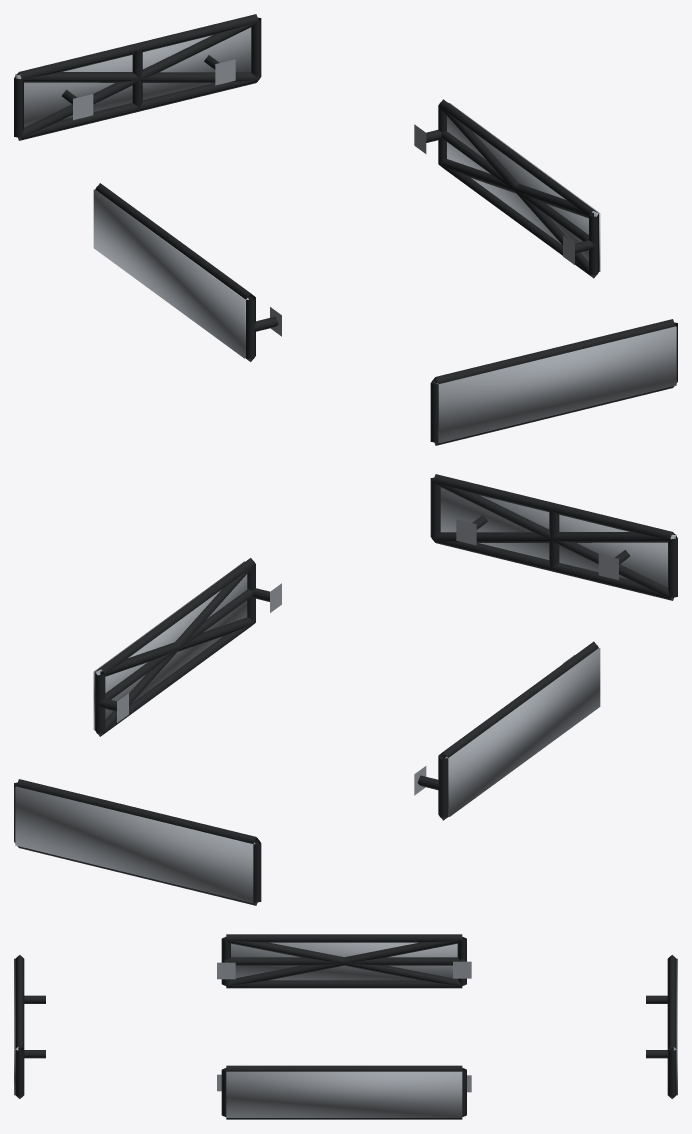
File: dunmere_lentilha_protecao.glb
3 views of the same model, one above another, from view 1: azimuth 30°, elevation 25°; view 2: azimuth 150°, elevation 25°; view 3: azimuth 270°, elevation 25° (orthographic). The views are drawn at different scales.
Parts seen in each view (by area): view 1: Protection_front_Level3_Details, Protection_left_Level3_Details, Protection_rear_Level1_Details, Protection_rear_Level3_Details, Protection_right_Level1_Details, Protection_rear_Level2_Details, Protection_right_Level2_Details, Protection_right_Level3_Details, Protection_front_Level1_Details, Protection_left_Level1_Details; view 2: Protection_rear_Level3_Details, Protection_left_Level3_Details, Protection_front_Level1_Details, Protection_front_Level3_Details, Protection_right_Level1_Details, Protection_front_Level2_Details, Protection_right_Level2_Details, Protection_right_Level3_Details, Protection_rear_Level1_Details, Protection_left_Level1_Details; view 3: Protection_right_Level3_Details, Protection_left_Level1_Details, Protection_left_Level2_Details, Protection_left_Level3_Details, Protection_right_Level1_Details, Protection_rear_Level1_Details, Protection_front_Level1_Details.
Part boxes in pixels (bbox=[...]): Protection_front_Level3_Details: bbox=[436, 326, 676, 443]; Protection_left_Level3_Details: bbox=[93, 189, 248, 358]; Protection_rear_Level1_Details: bbox=[14, 14, 261, 140]; Protection_rear_Level3_Details: bbox=[15, 27, 251, 127]; Protection_right_Level1_Details: bbox=[414, 99, 598, 278]; Protection_rear_Level2_Details: bbox=[16, 21, 258, 139]; Protection_right_Level2_Details: bbox=[438, 106, 598, 277]; Protection_right_Level3_Details: bbox=[447, 103, 600, 271]; Protection_front_Level1_Details: bbox=[430, 319, 677, 445]; Protection_left_Level1_Details: bbox=[95, 183, 281, 361]; Protection_rear_Level3_Details: bbox=[15, 786, 255, 903]; Protection_left_Level3_Details: bbox=[445, 648, 600, 816]; Protection_front_Level1_Details: bbox=[430, 474, 677, 600]; Protection_front_Level3_Details: bbox=[440, 487, 676, 587]; Protection_right_Level1_Details: bbox=[95, 558, 281, 736]; Protection_front_Level2_Details: bbox=[433, 481, 675, 599]; Protection_right_Level2_Details: bbox=[95, 564, 255, 736]; Protection_right_Level3_Details: bbox=[93, 561, 247, 730]; Protection_rear_Level1_Details: bbox=[14, 779, 261, 905]; Protection_left_Level1_Details: bbox=[414, 641, 598, 820]; Protection_right_Level3_Details: bbox=[226, 1071, 462, 1117]; Protection_left_Level1_Details: bbox=[217, 934, 471, 988]; Protection_left_Level2_Details: bbox=[226, 938, 462, 986]; Protection_left_Level3_Details: bbox=[231, 942, 457, 980]; Protection_right_Level1_Details: bbox=[217, 1065, 471, 1119]; Protection_rear_Level1_Details: bbox=[646, 955, 676, 1098]; Protection_front_Level1_Details: bbox=[15, 955, 45, 1098].
Bounding box in the file's own units: 1.91 × 0.354 × 3.94.
1 material, 1 textured.
